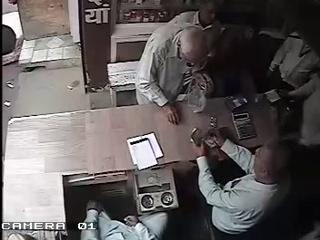Normal: (190, 126, 295, 239), (135, 0, 224, 126), (80, 199, 167, 240)
